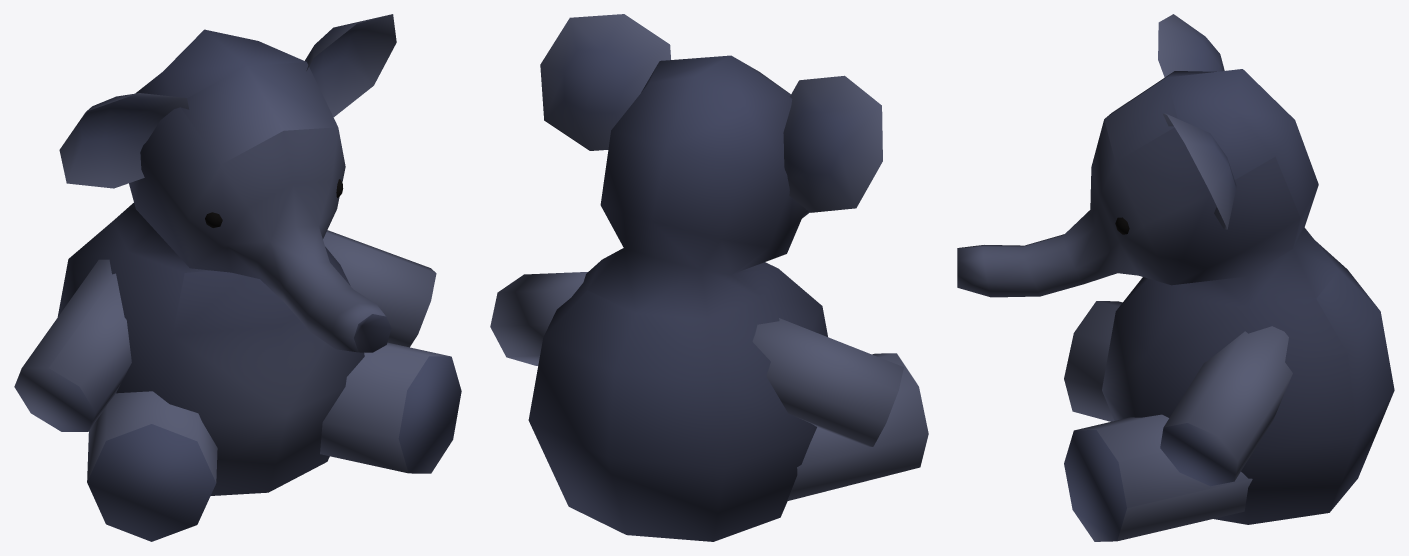
File: elephant.fbx
The picture shows the model from 3 angles, left to right: view 1: azimuth 30°, elevation 25°; view 2: azimuth 150°, elevation 25°; view 3: azimuth 270°, elevation 25°; orthographic projection. The views are drawn at different scales.
Visible parts, largest first — view 1: elephant; view 2: elephant; view 3: elephant.
Part boxes in pixels (x1,y1,x2,y2): elephant: (14, 14, 461, 541); elephant: (490, 14, 928, 541); elephant: (957, 14, 1394, 541).
Size of the model in its own units: 1.65 by 1.68 by 1.6.
